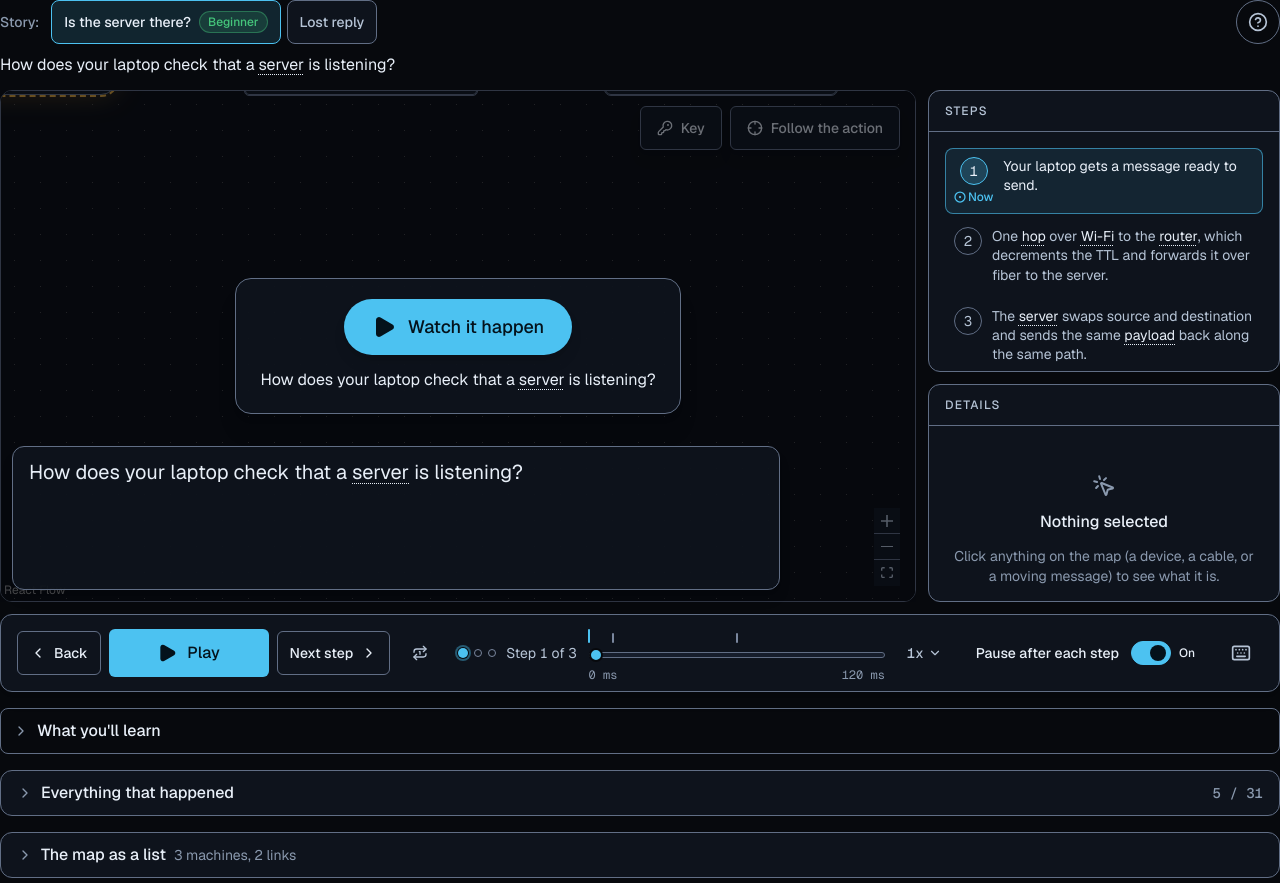
Scenario: stories › puts what the story teaches under "What you’ll learn"
This screenshot has width=1280, height=883.
Expected: the text "The router forwards the request one hop at a time." is not shown
Click the heading "What you'll learn": point(87, 730) [13, 720, 161, 741]
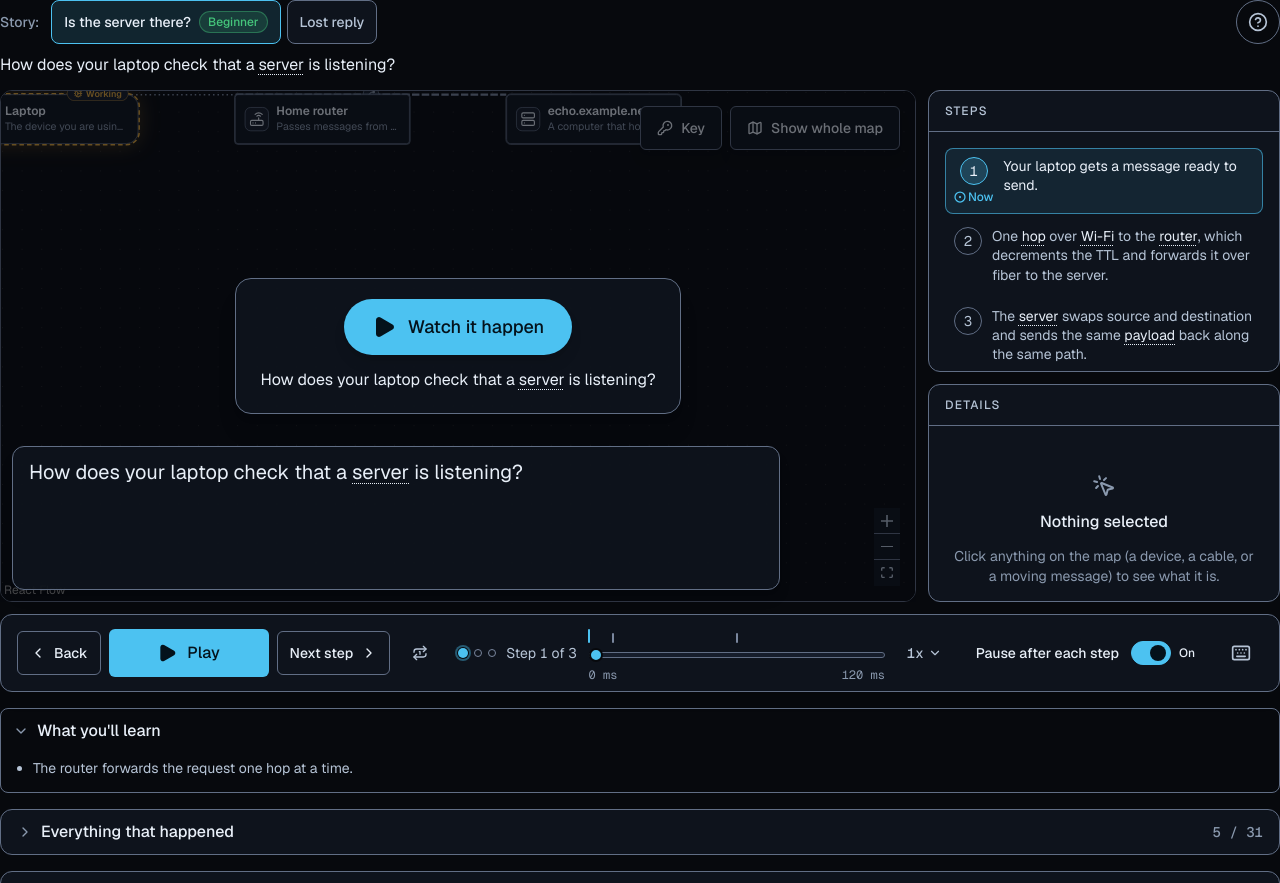
Expected: the list item "The router forwards the request one hop at a time." is shown, [33, 759, 352, 777]
